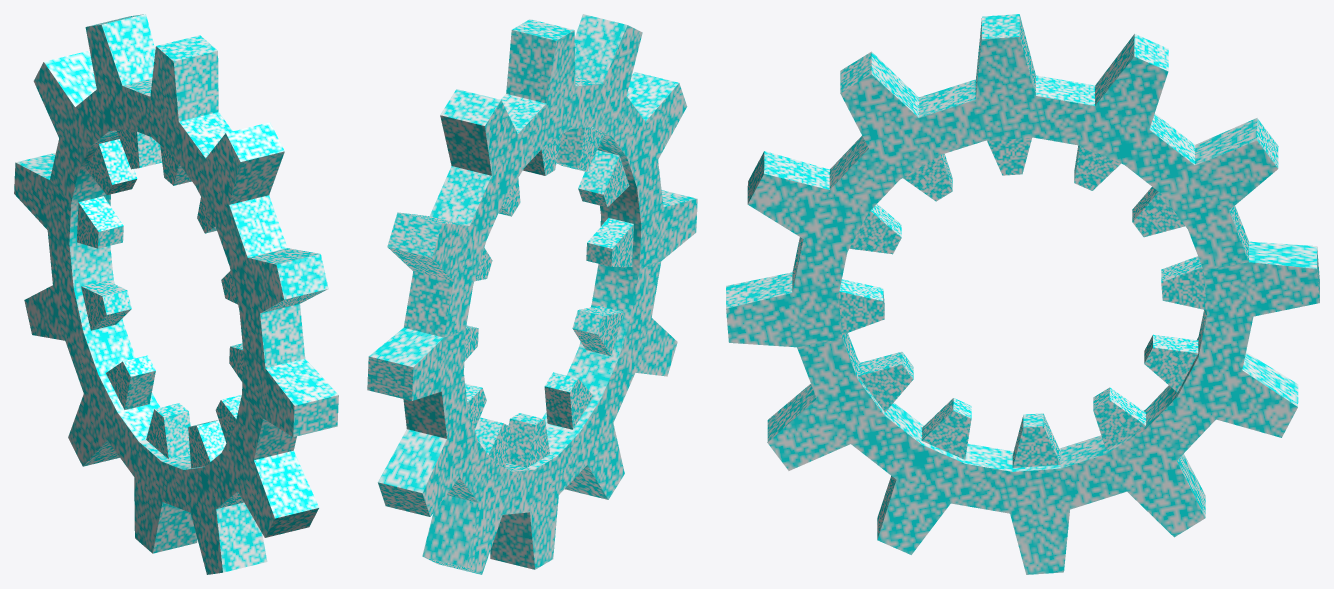
The model's file is SM_Gear_01_HJS.fbx.
The picture shows the model from 3 angles, left to right: view 1: azimuth 30°, elevation 25°; view 2: azimuth 150°, elevation 25°; view 3: azimuth 270°, elevation 25°; orthographic projection. The views are drawn at different scales.
Parts seen in each view (by area): view 1: SM_Gear_01_HJS; view 2: SM_Gear_01_HJS; view 3: SM_Gear_01_HJS.
Boxes of the visible parts, x1,y1,x2,y2 form: SM_Gear_01_HJS: [14, 14, 338, 574]; SM_Gear_01_HJS: [367, 14, 697, 574]; SM_Gear_01_HJS: [726, 14, 1319, 574].
Size of the model in its own units: 4.86 by 52.38 by 52.38.
